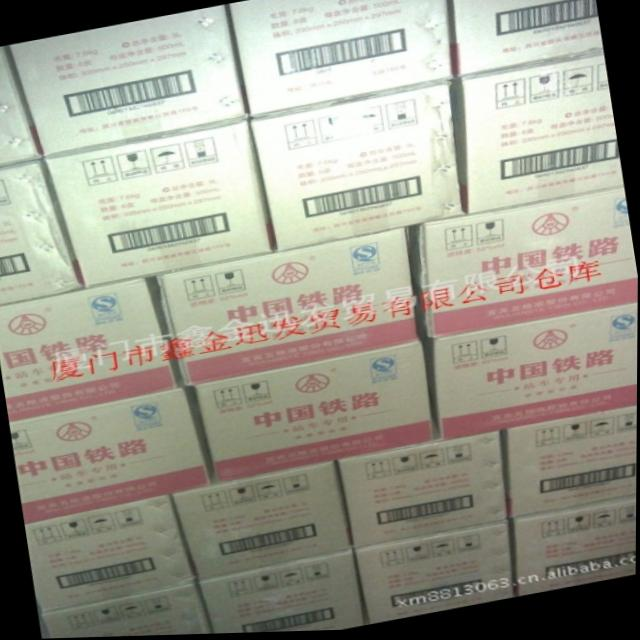box: (160, 228, 421, 388), (44, 119, 276, 290), (250, 82, 466, 252), (5, 6, 247, 156), (197, 343, 438, 483), (416, 192, 638, 342), (433, 306, 638, 441), (11, 388, 214, 524), (462, 54, 624, 218), (227, 0, 452, 117), (0, 278, 181, 420), (172, 463, 354, 581), (25, 496, 193, 612), (340, 432, 507, 546), (352, 523, 518, 626), (505, 410, 638, 523), (197, 551, 367, 635), (513, 499, 637, 600), (0, 159, 82, 306), (454, 0, 604, 80), (42, 585, 210, 639), (0, 47, 41, 162)
